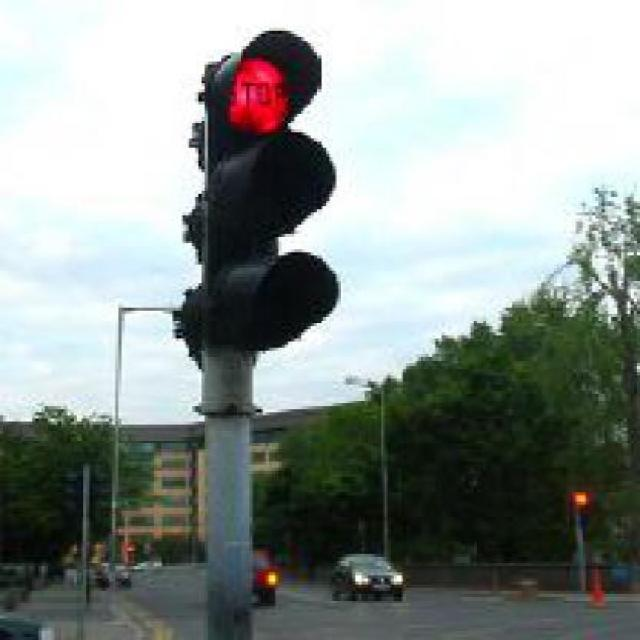red_light: (183, 29, 354, 351)
